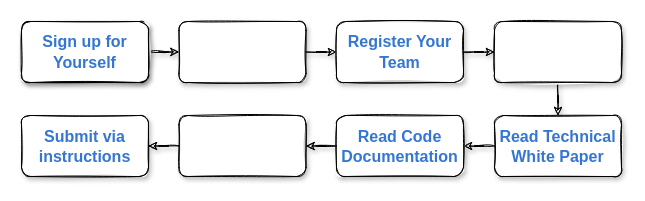
Image size: 645x201. Some labels were removed from this diagram. The shapes that lost their labels are listed below. From the top down, each one's centre as x and y in pixels, then its label:
At (x=243, y=53): "Set up Your Groups".
At (x=559, y=53): "Check Code and Tutorials".
At (x=243, y=147): "Attend Events".
